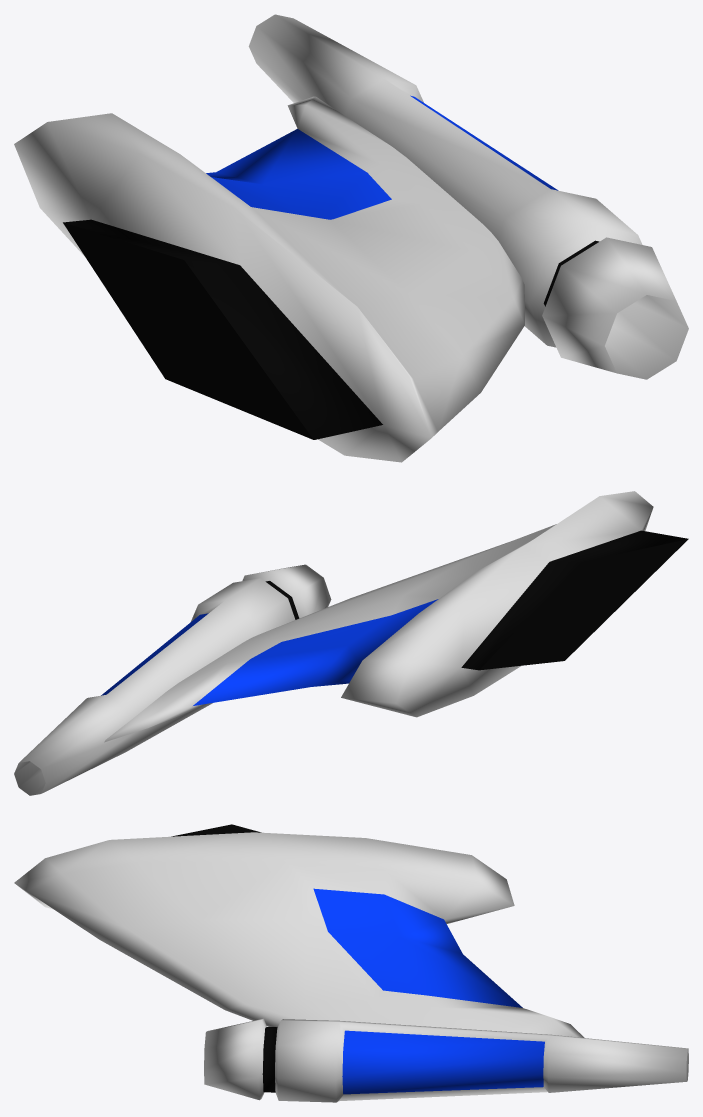
Rendered from SM_Wing.FBX.
3 views of the same model, one above another, from view 1: azimuth 30°, elevation 25°; view 2: azimuth 150°, elevation 25°; view 3: azimuth 270°, elevation 25° (orthographic). The views are drawn at different scales.
Parts seen in each view (by area): view 1: Object001; view 2: Object001; view 3: Object001.
Part boxes in pixels (<box>): Object001: <box>14,14,688,462</box>; Object001: <box>14,491,688,795</box>; Object001: <box>14,824,688,1102</box>.
Size of the model in its own units: 23.11 by 10.54 by 41.64.
